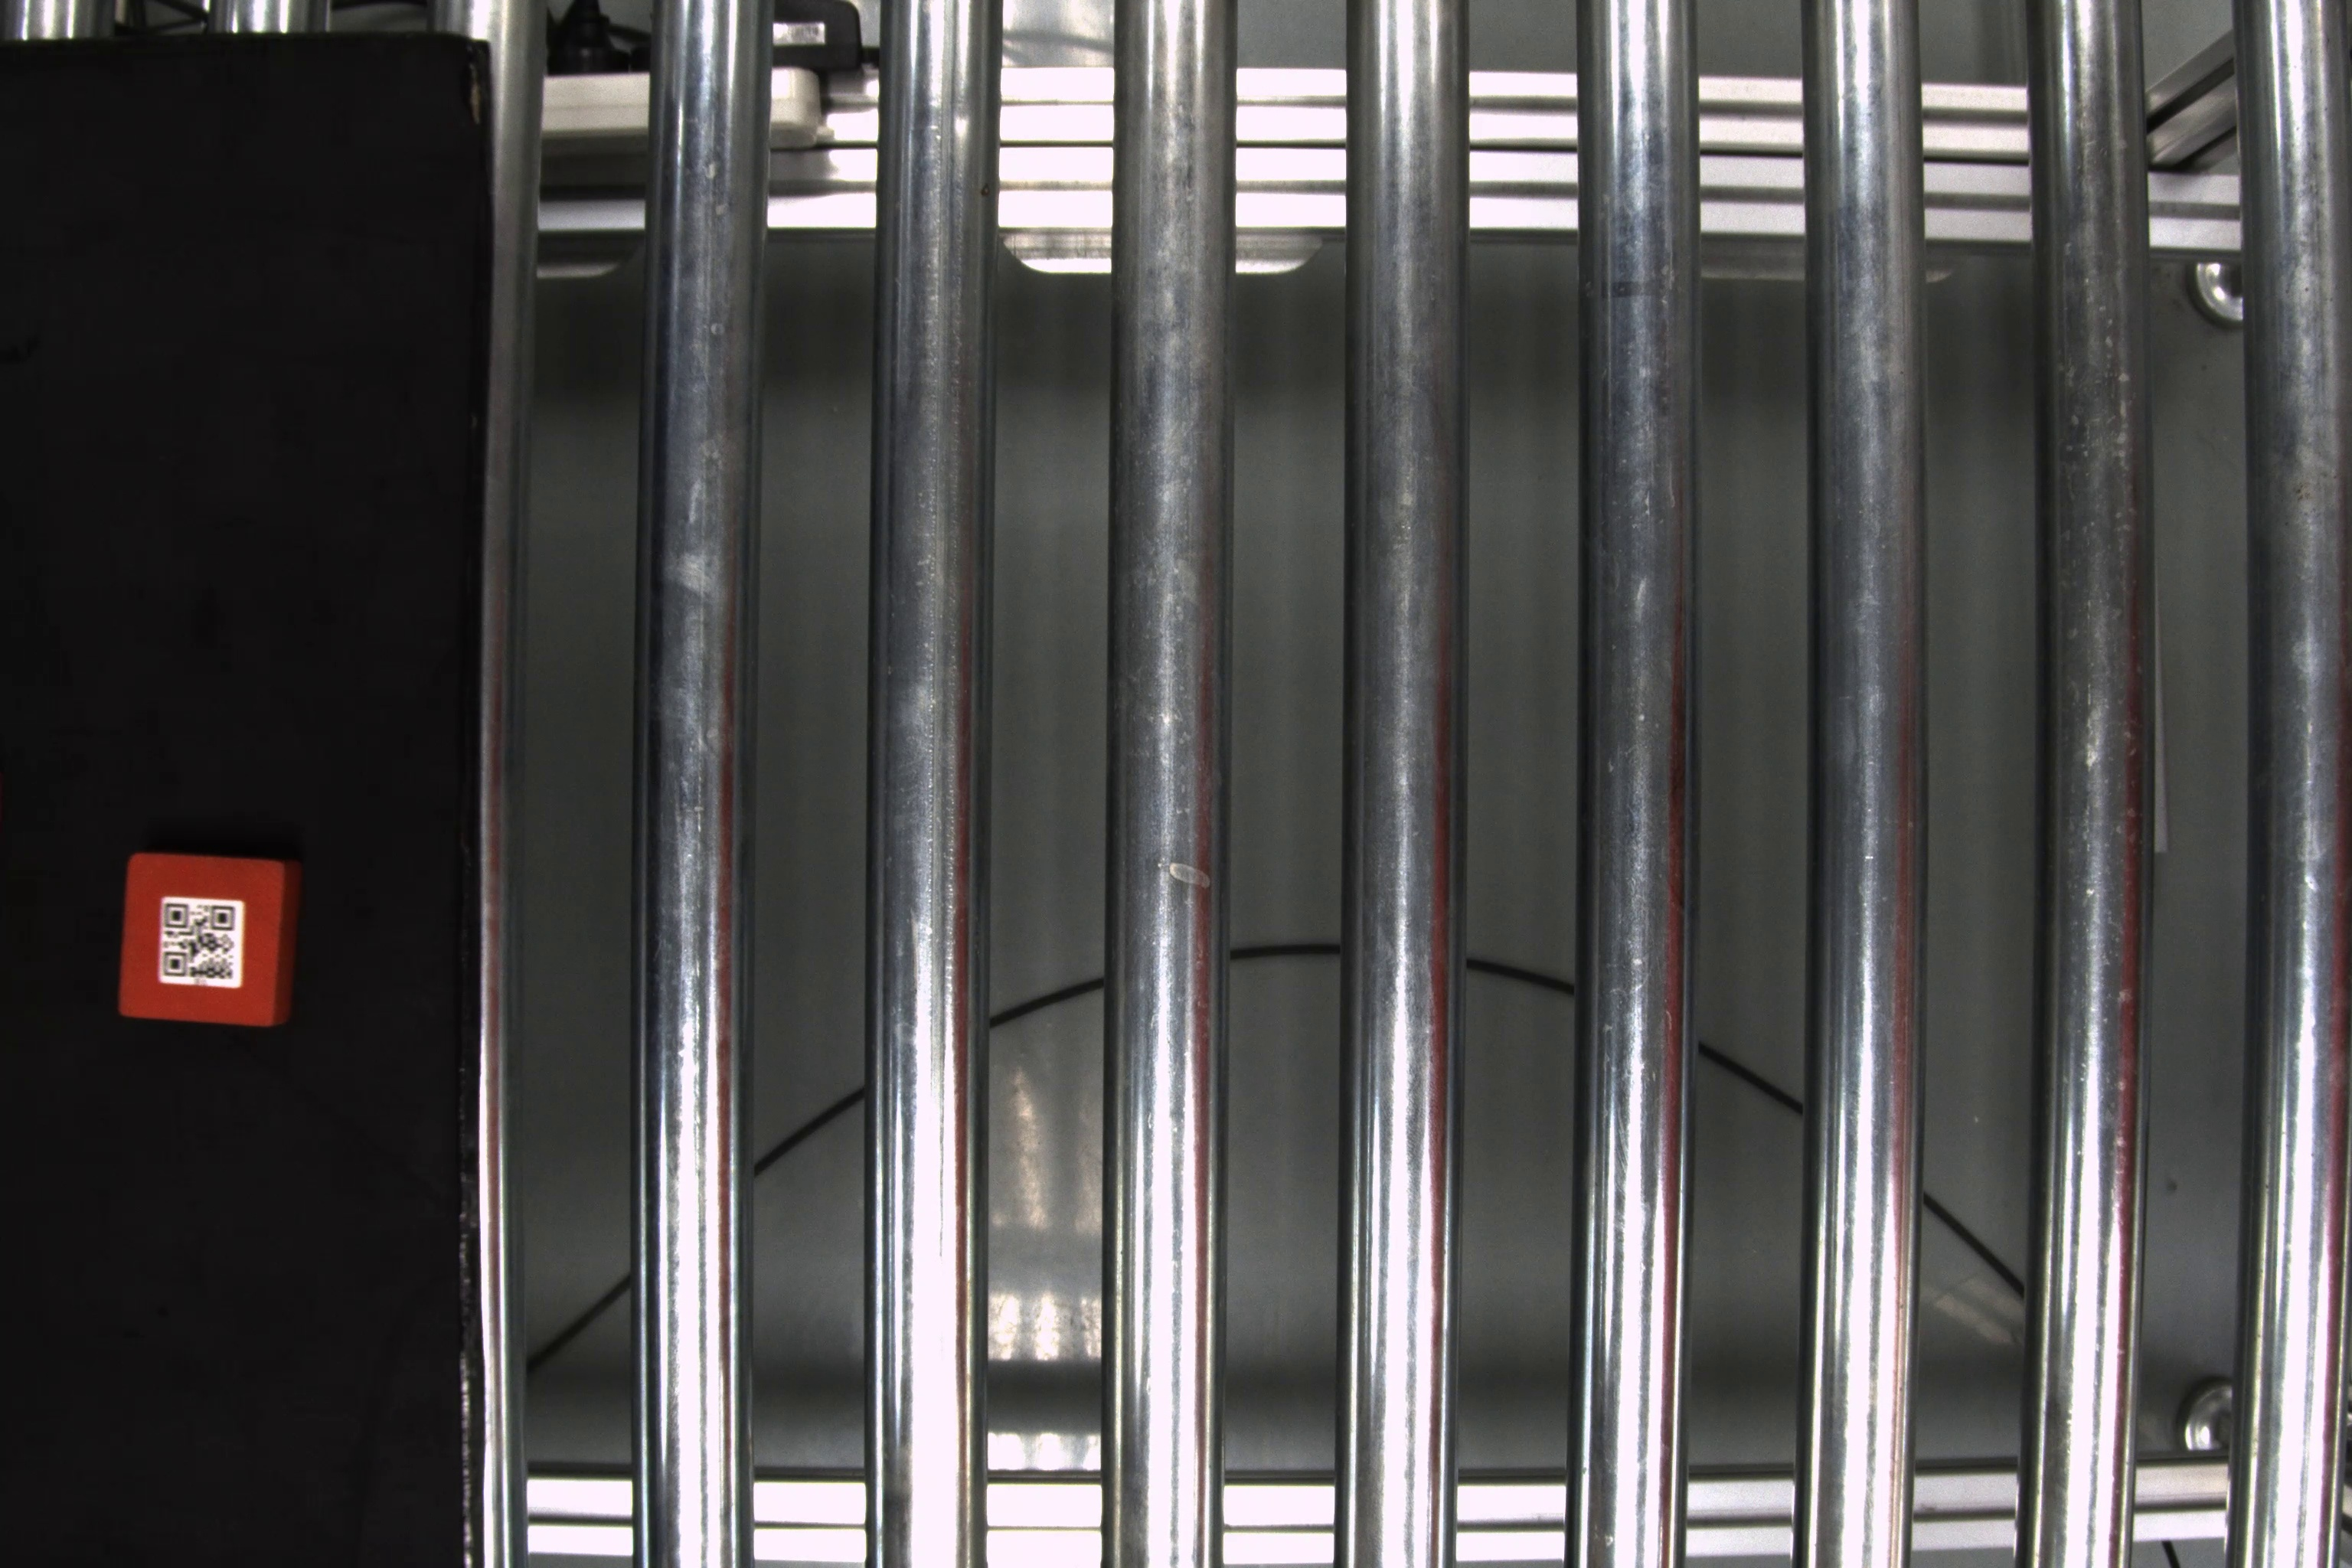wood: (108, 850, 306, 1031)
